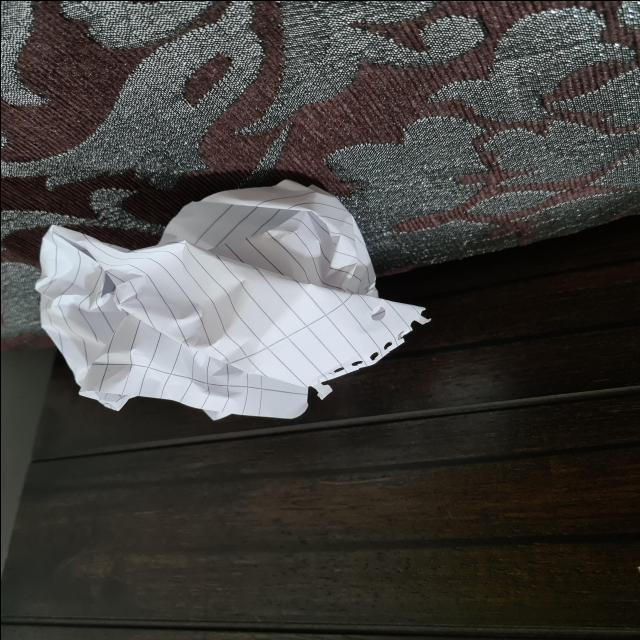kertas: (24, 175, 422, 424)
